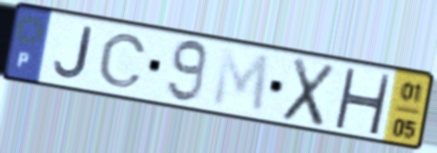9: (162, 37, 210, 106)
C: (95, 31, 150, 89)
H: (331, 65, 394, 137)
J: (51, 24, 96, 81)
M: (210, 45, 273, 117)
X: (279, 54, 339, 130)
